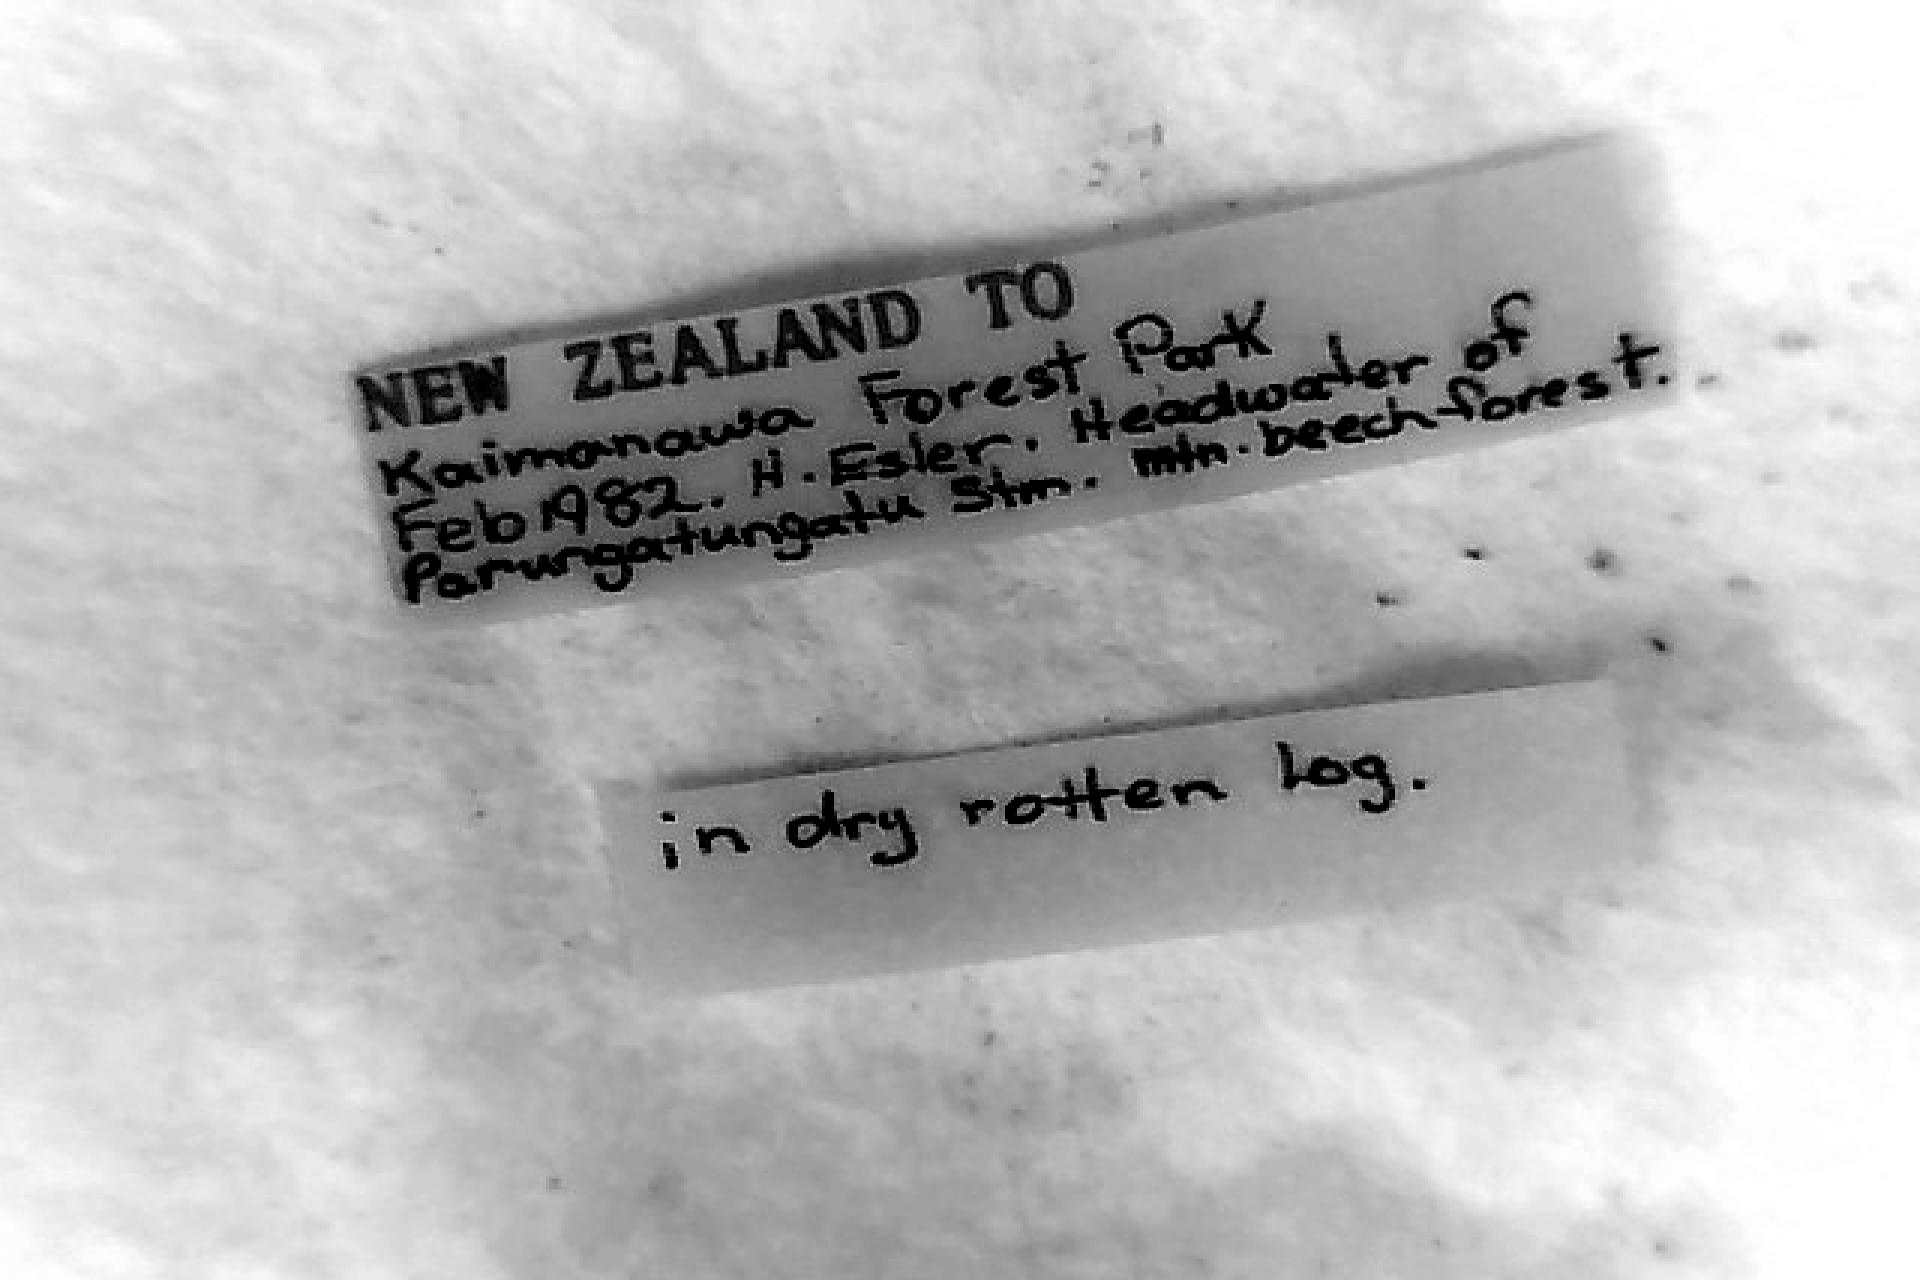hand_label: (614, 680, 1634, 991)
mixed_label: (353, 140, 1669, 620)
